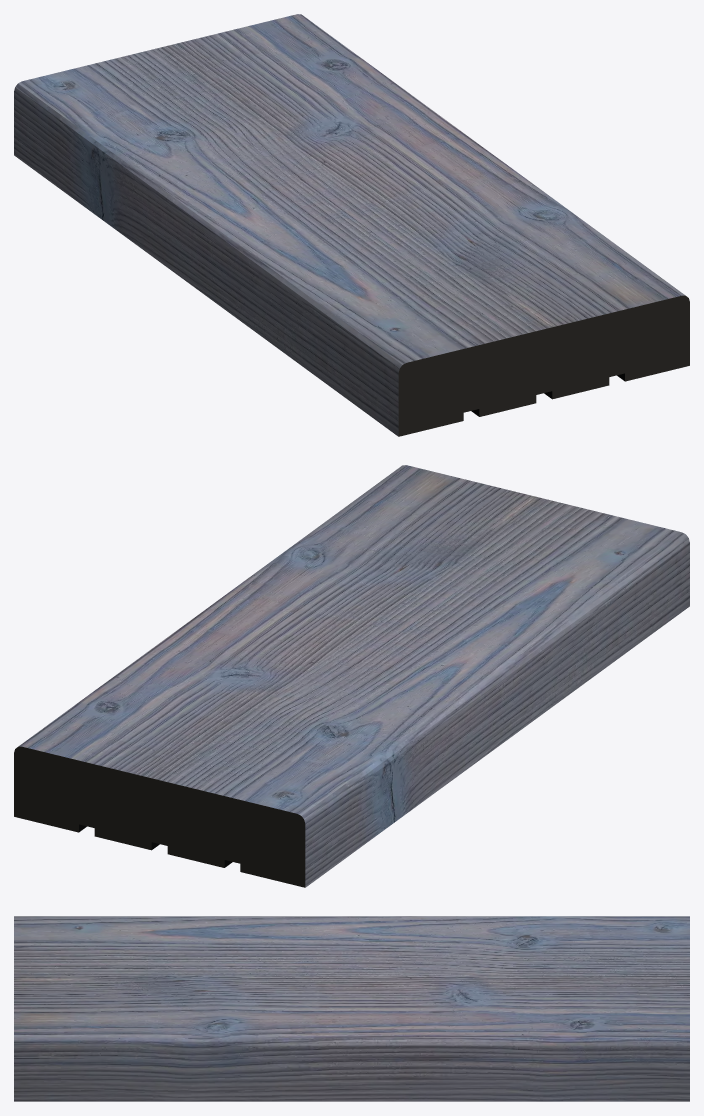
Rendered from spruce-terrace-rectangular-latte.glb.
The picture shows the model from 3 angles, top to bottom: view 1: azimuth 30°, elevation 25°; view 2: azimuth 150°, elevation 25°; view 3: azimuth 270°, elevation 25°; orthographic projection. The views are drawn at different scales.
Parts seen in each view (by area): view 1: Staciakampis; view 2: Staciakampis; view 3: Staciakampis.
Part boxes in pixels (x1=…): Staciakampis: x1=14, y1=14, x2=689, y2=436; Staciakampis: x1=14, y1=465, x2=689, y2=887; Staciakampis: x1=14, y1=916, x2=689, y2=1101.
Bounding box in the file's own units: 0.0733 × 0.0173 × 0.1675.
3 materials, 1 textured.
